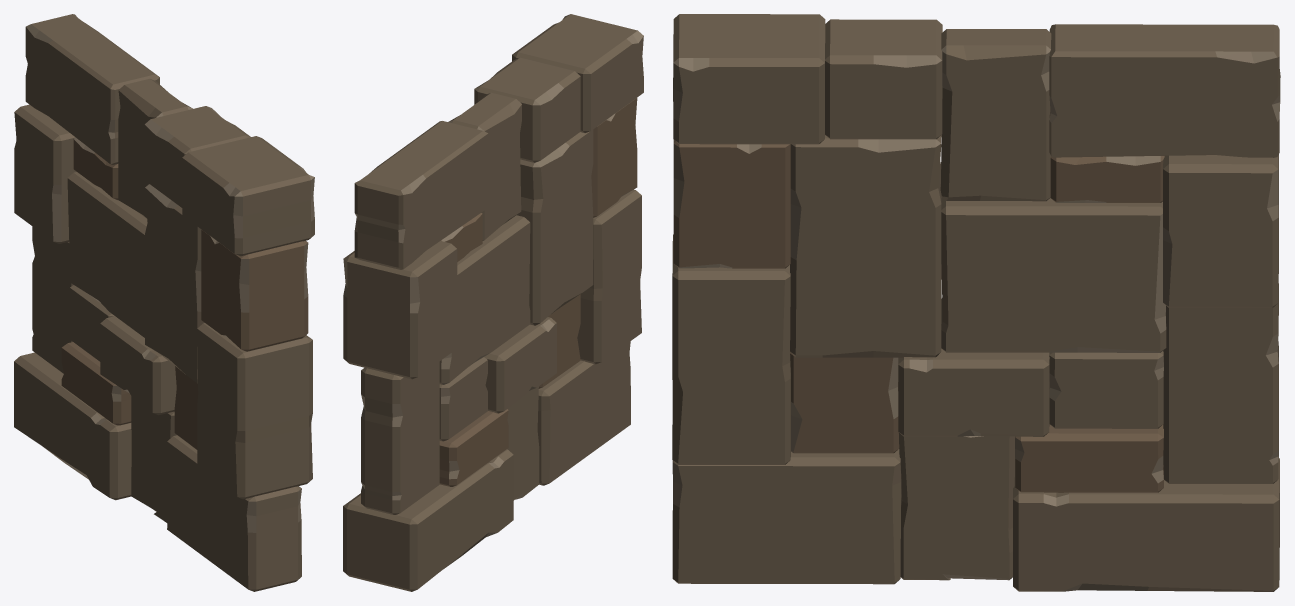
File: plaza_wall_east_6_lev3.glb
3 renders of one model, left to right at view 1: azimuth 30°, elevation 25°; view 2: azimuth 150°, elevation 25°; view 3: azimuth 270°, elevation 25°, orthographic. The views are drawn at different scales.
Visible parts, largest first — view 1: plaza_wall_east_6_lev3; view 2: plaza_wall_east_6_lev3; view 3: plaza_wall_east_6_lev3.
Boxes of the visible parts, x1=… form: plaza_wall_east_6_lev3: x1=14, y1=14, x2=314, y2=591; plaza_wall_east_6_lev3: x1=343, y1=14, x2=643, y2=591; plaza_wall_east_6_lev3: x1=672, y1=14, x2=1280, y2=591.
Size of the model in its own units: 1.23 by 5.91 by 6.09.
